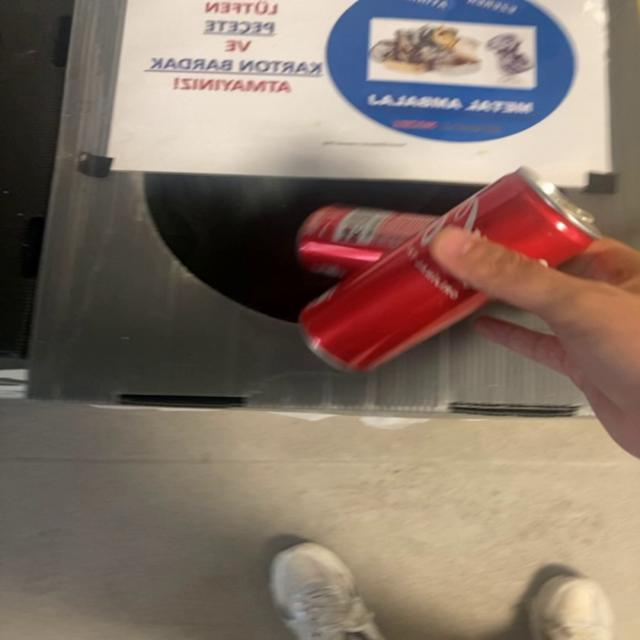Bin: (31, 0, 636, 412)
Metal: (299, 167, 602, 371)
